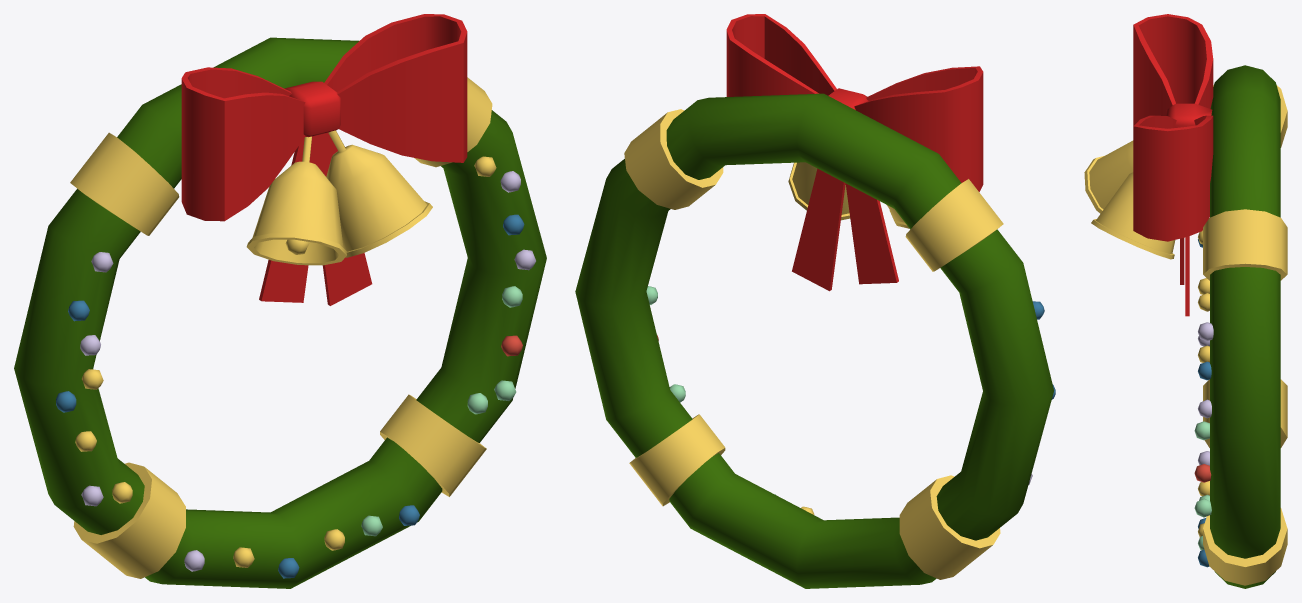
File: Christmas_wreath_6.glb
The picture shows the model from 3 angles, left to right: view 1: azimuth 30°, elevation 25°; view 2: azimuth 150°, elevation 25°; view 3: azimuth 270°, elevation 25°; orthographic projection. The views are drawn at different scales.
Parts seen in each view (by area): view 1: Christmas_wreath_6; view 2: Christmas_wreath_6; view 3: Christmas_wreath_6.
Part boxes in pixels (x1,y1,x2,y2): Christmas_wreath_6: [14, 14, 546, 588]; Christmas_wreath_6: [575, 14, 1055, 588]; Christmas_wreath_6: [1084, 14, 1287, 588].
Bounding box in the file's own units: 0.8728 × 0.9023 × 0.3371.
Materials: 1 (1 with a texture image).
